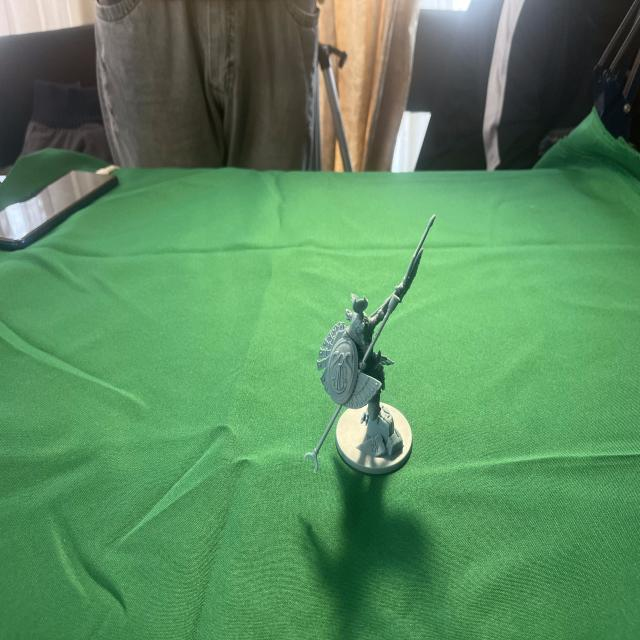isis: (294, 198, 447, 517)
